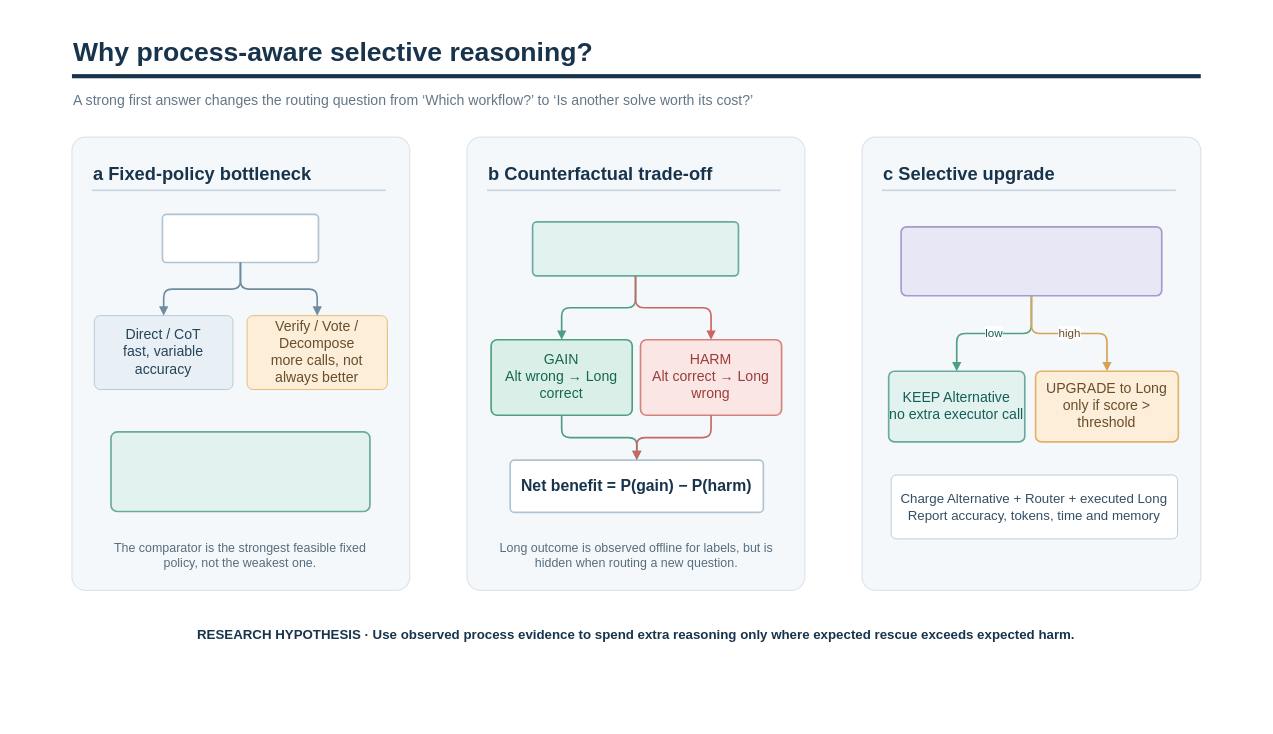
The diagram is 1273 pixels wide and 734 high, and some of its shapes have lost their labels. The box of each missing label's shape, as (x1, y1, x2, y2) in pixels:
New question: (161, 213, 319, 263)
Observed Alternative answer: (531, 221, 739, 276)
Process-aware Router question + first solution + metadata: (900, 226, 1162, 296)
Strong Alternative first answer 75.05% · 274 tokens (v55 dev): (110, 431, 370, 512)
